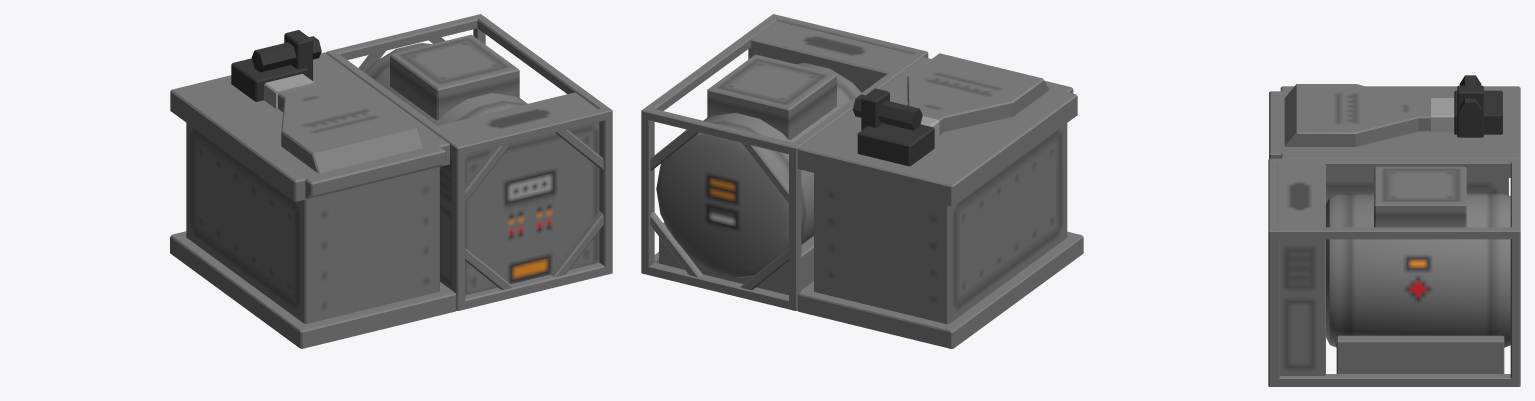
The model's file is mule_attachments.fbx.
The picture shows the model from 3 angles, left to right: view 1: azimuth 30°, elevation 25°; view 2: azimuth 150°, elevation 25°; view 3: azimuth 270°, elevation 25°; orthographic projection. The views are drawn at different scales.
Parts seen in each view (by area): view 1: mule_ammo_box, mule_fuel_tank; view 2: mule_ammo_box, mule_fuel_tank; view 3: mule_fuel_tank, mule_ammo_box.
Part boxes in pixels (x1,y1,x2,y2): mule_ammo_box: (170, 30, 456, 348); mule_fuel_tank: (326, 14, 612, 310); mule_ammo_box: (797, 53, 1083, 348); mule_fuel_tank: (641, 14, 928, 310); mule_fuel_tank: (1268, 158, 1520, 386); mule_ammo_box: (1269, 75, 1520, 203).
Bounding box in the file's own units: 336 × 145 × 164.
Materials: 3 (3 with a texture image).
